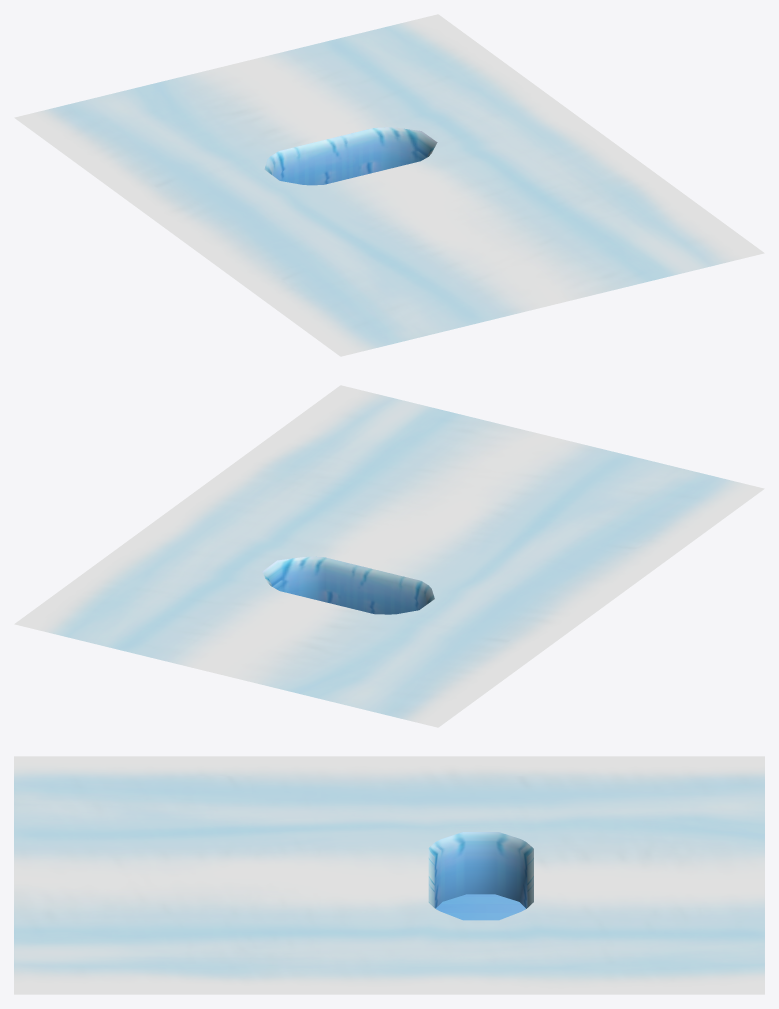
The model's file is Hole_M_02_M.FBX.
3 renders of one model, top to bottom at view 1: azimuth 30°, elevation 25°; view 2: azimuth 150°, elevation 25°; view 3: azimuth 270°, elevation 25°, orthographic. The views are drawn at different scales.
Parts seen in each view (by area): view 1: modelRoad079; view 2: modelRoad079; view 3: modelRoad079.
Boxes of the visible parts, box(x1,y1,x2,y2) form: modelRoad079: box(14, 14, 764, 356); modelRoad079: box(14, 385, 764, 727); modelRoad079: box(14, 756, 764, 994).
Bounding box in the file's own units: 600 × 70 × 800.
